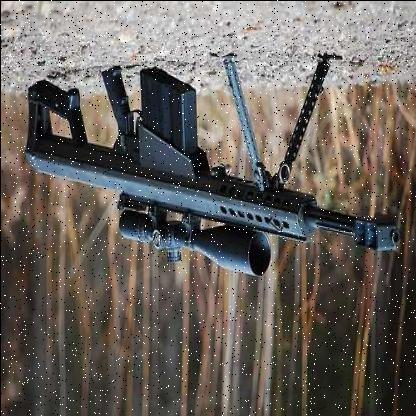rifle: (23, 57, 408, 282)
